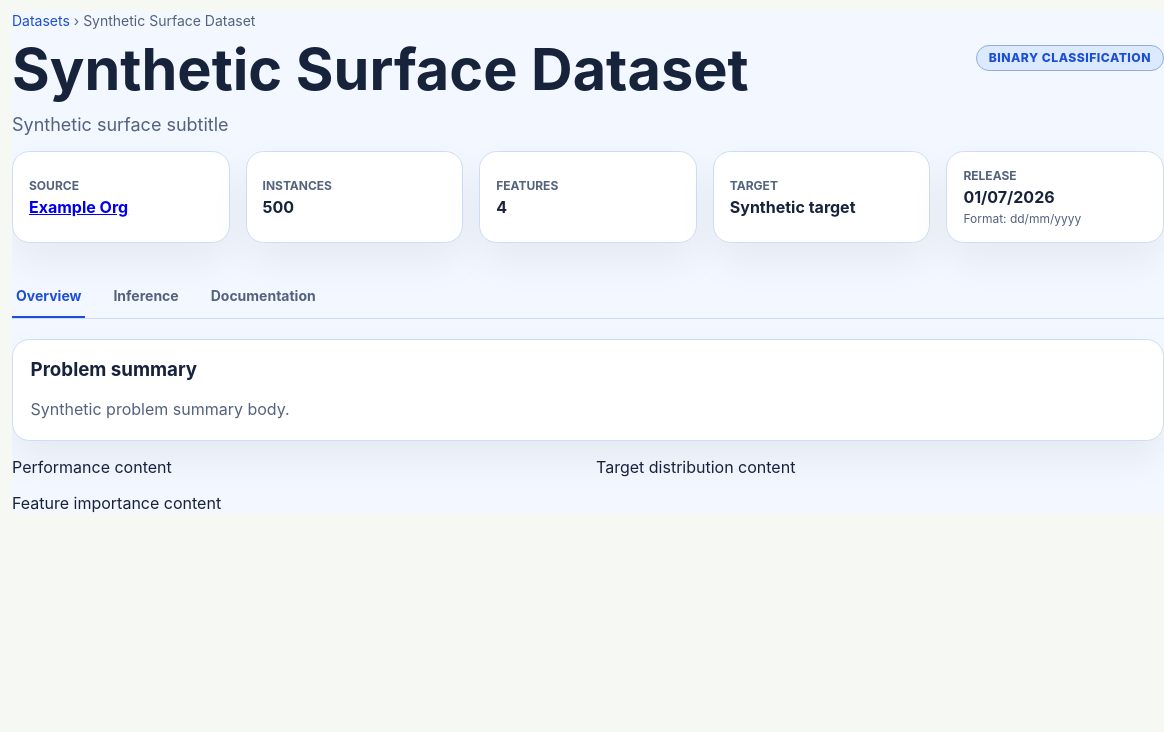
Test case: DatasetDetailSurface shared composition (S0119) › renders provided Documentation content only inside its own panel
Click the tab "Documentation" at (263, 297), box [207,275,320,318]
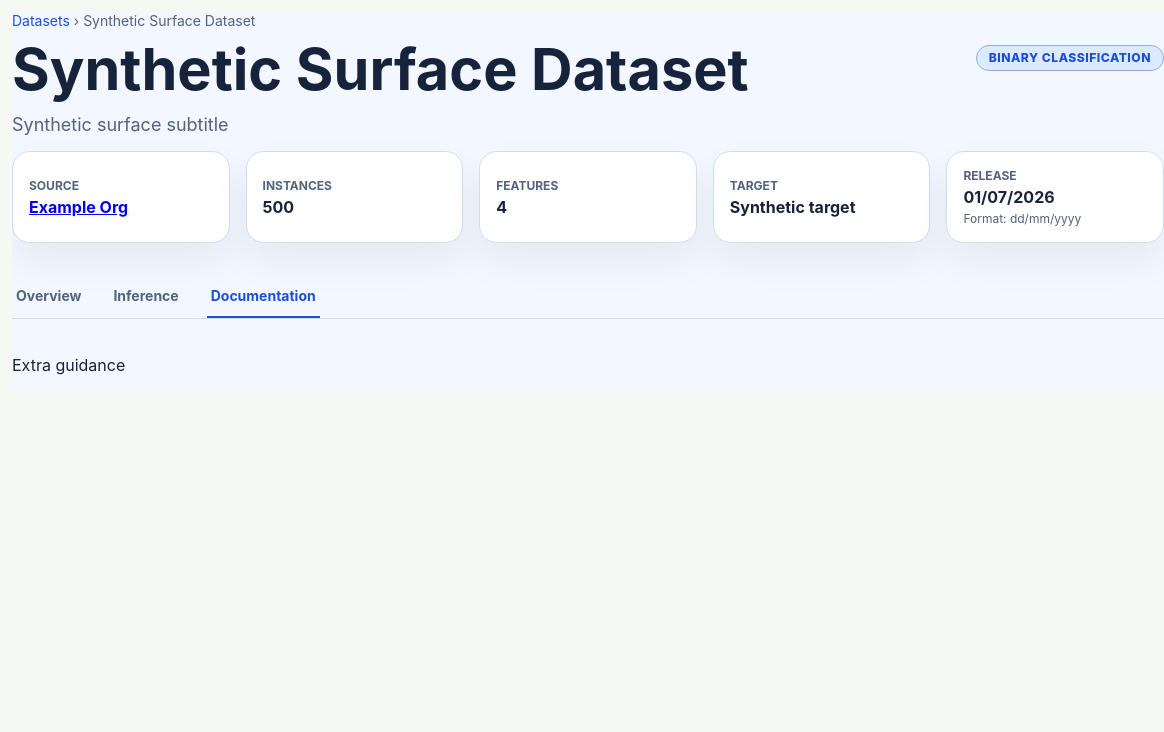
Result: the panel reads "Extra guidance" at [12,355,125,375]
Result: the panel no longer shows "Synthetic problem summary body." at [12,355,125,375]
